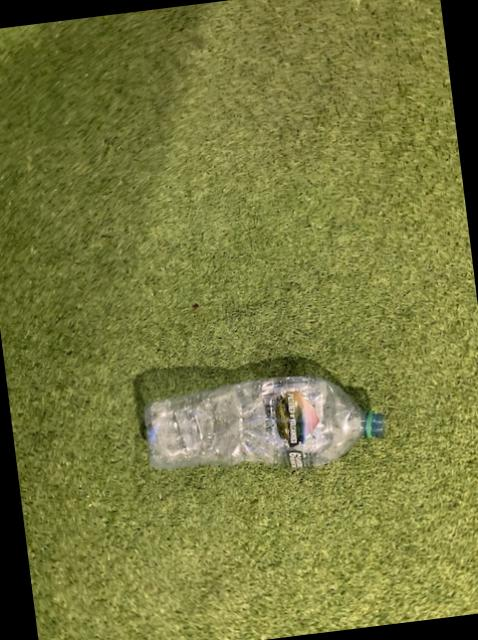plastic: (145, 377, 385, 468)
